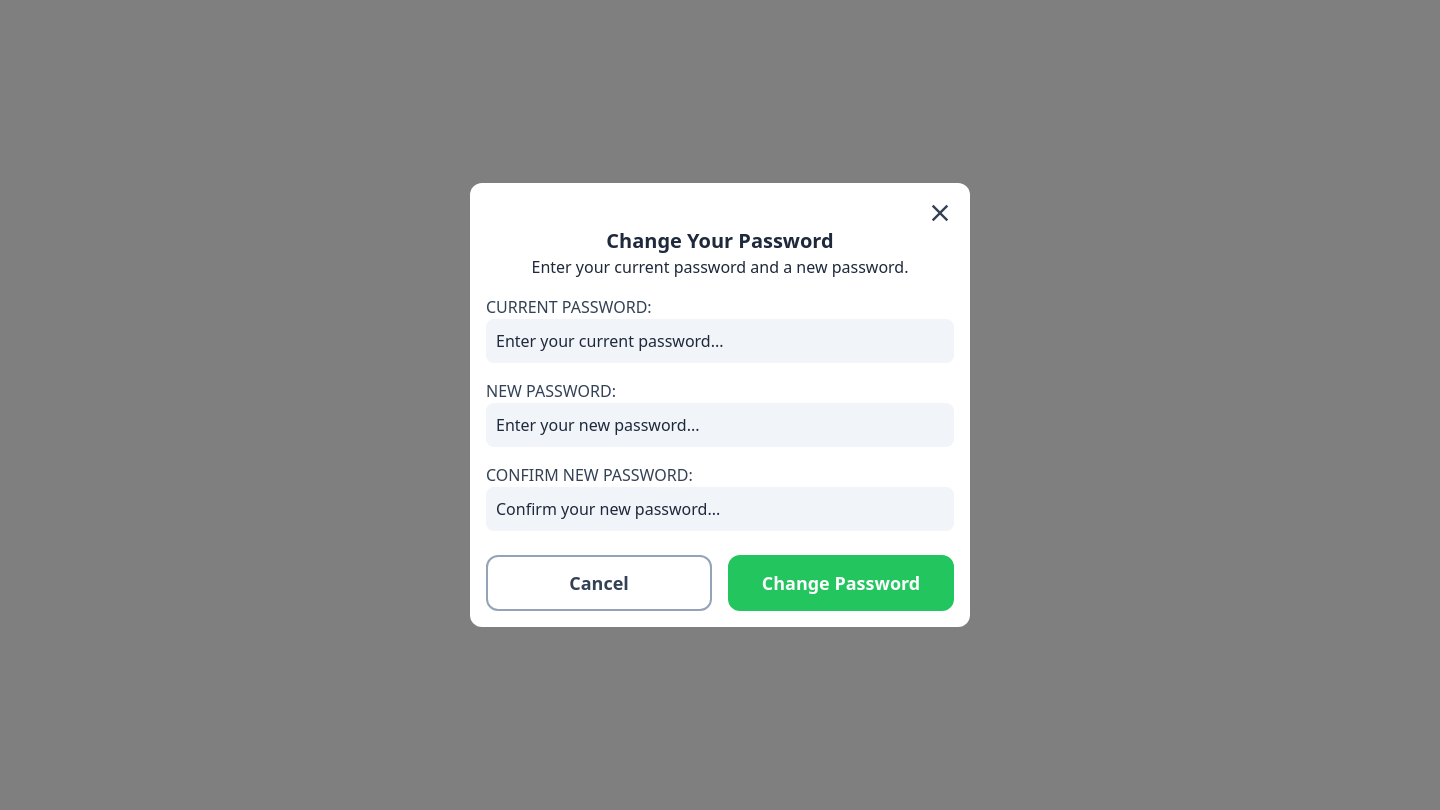
<ChangePasswordModal /> › prevents password change with too short new password
Type "password" into the password field with test id "current-password-input" at (720, 341), box [496,329,944,353]
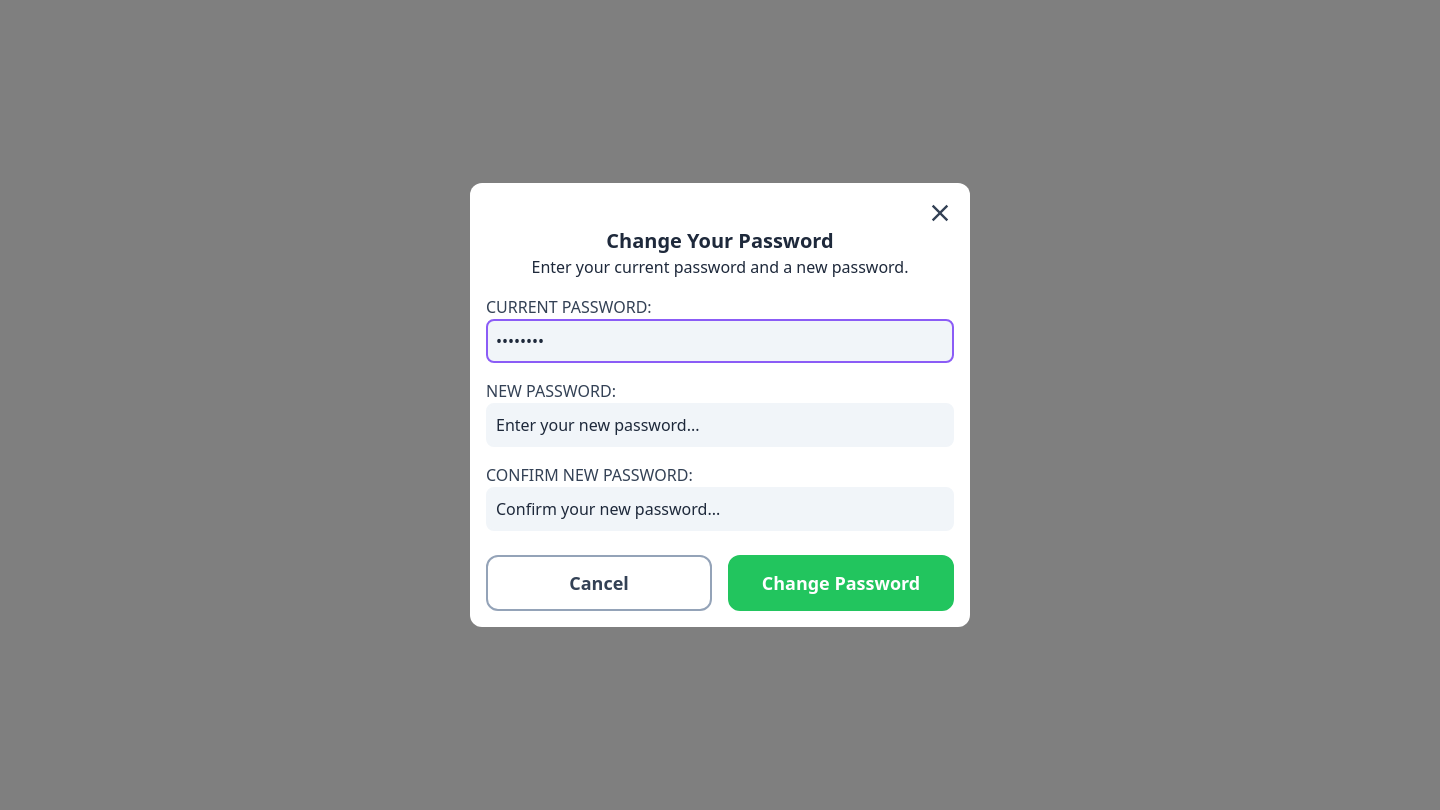
Type "short" into the password field with test id "new-password-input" at (720, 425), box [496,413,944,437]
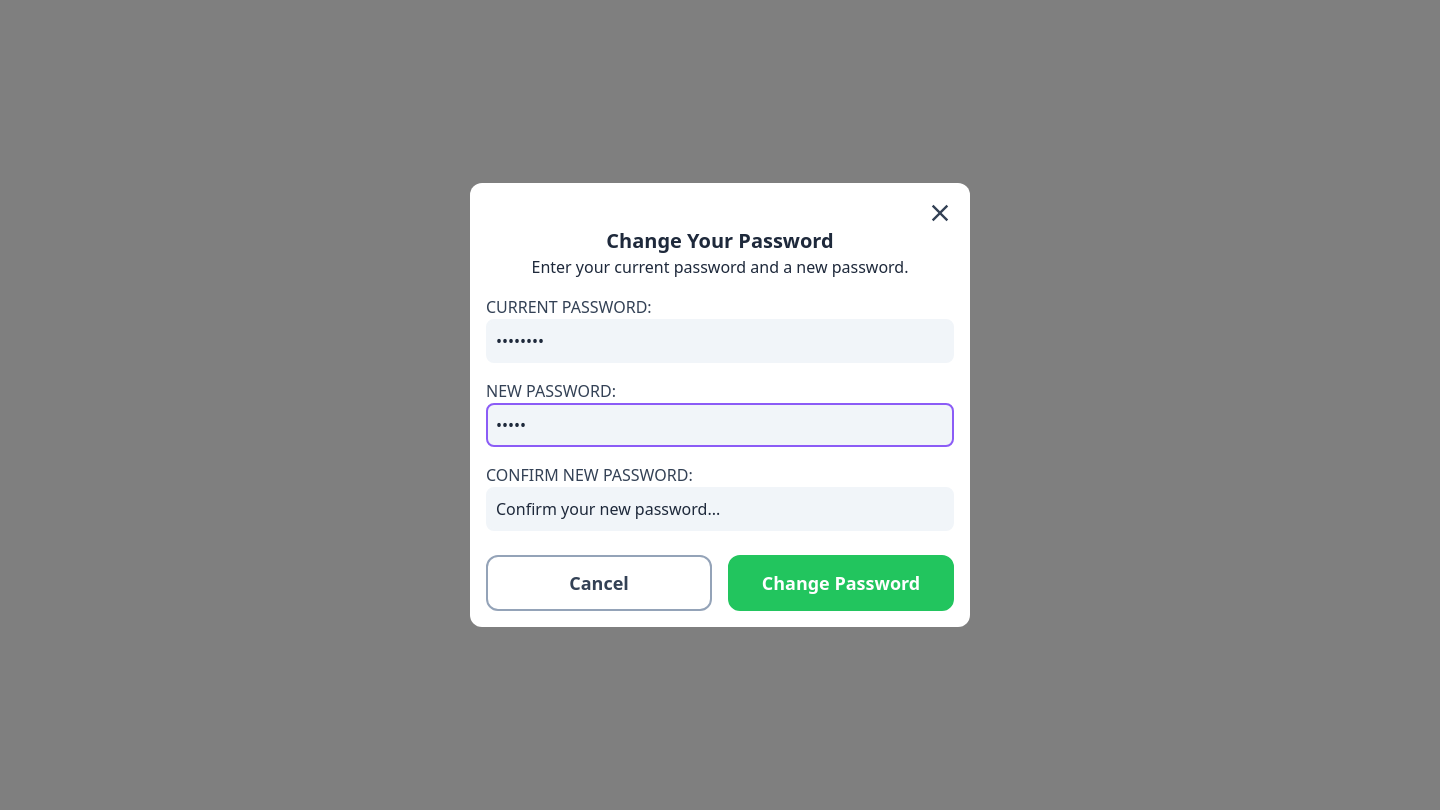
Type "short" into the password field with test id "confirm-new-password-input" at (720, 509), box [496,497,944,521]
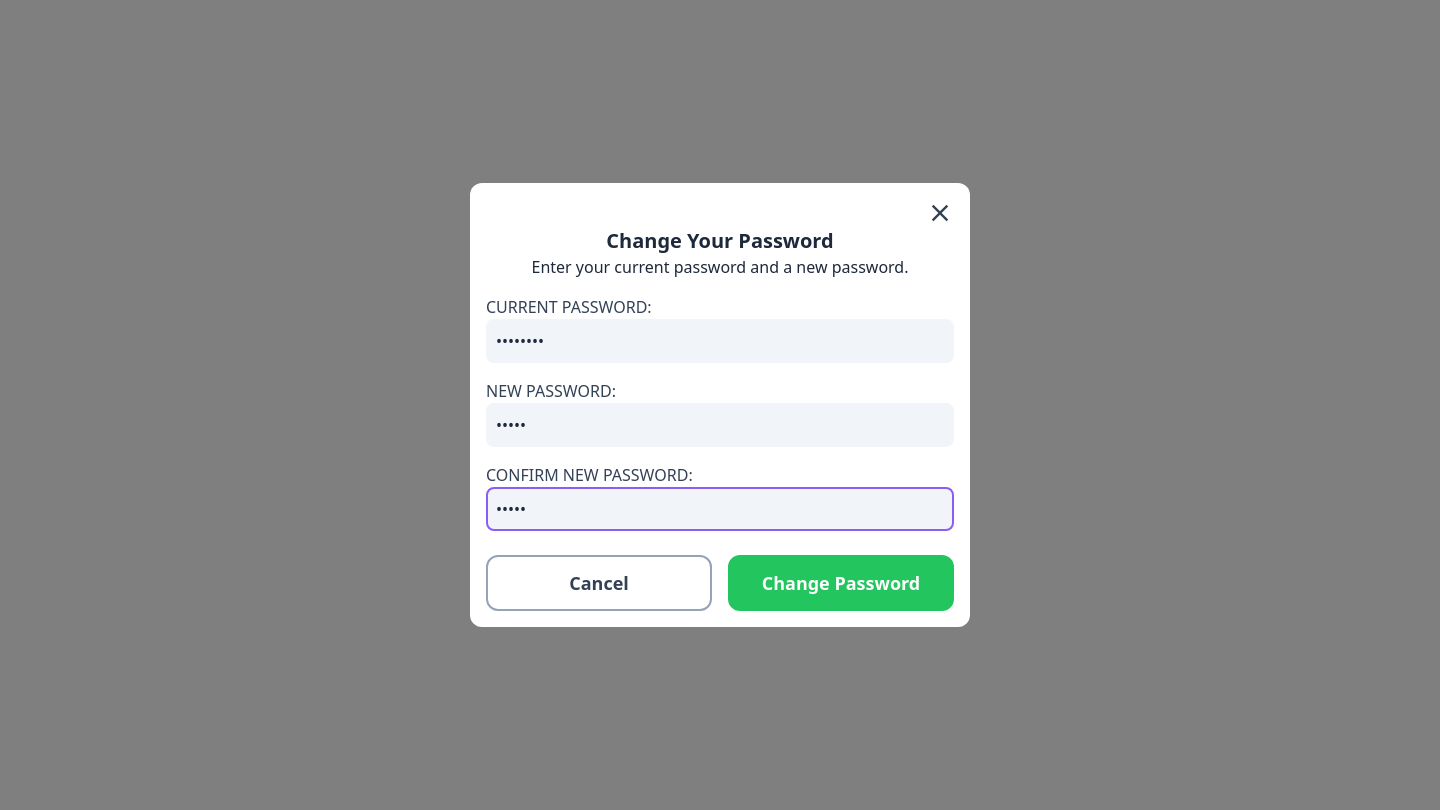
Click the button with test id "submit-change-password-button" at (841, 583), box [728,555,954,611]
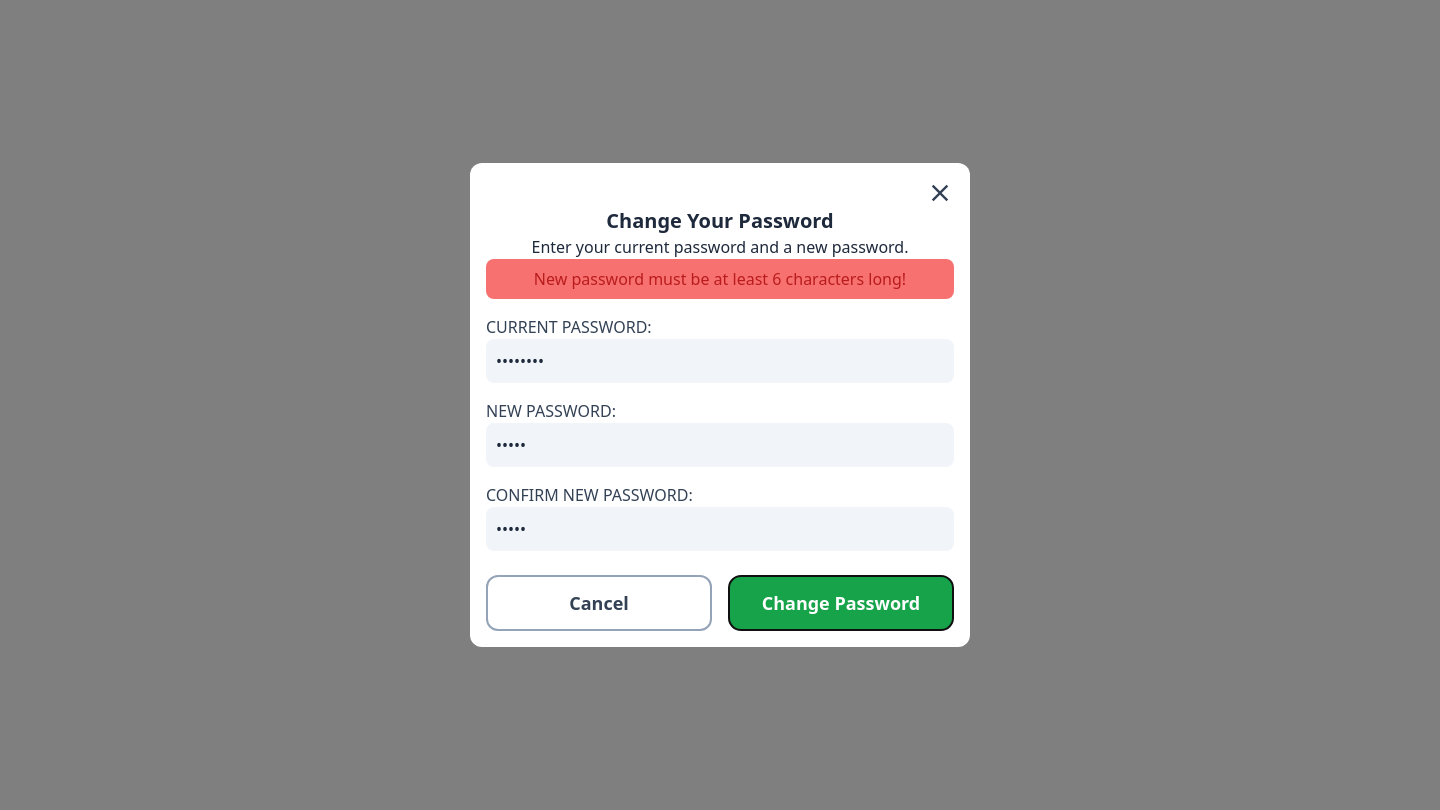
Now the text "New password must be at least 6 characters long!" is shown, box [486,259,954,299]
Now the text with test id "notify-message" reads "New password must be at least 6 characters long!", box [534,268,906,290]
